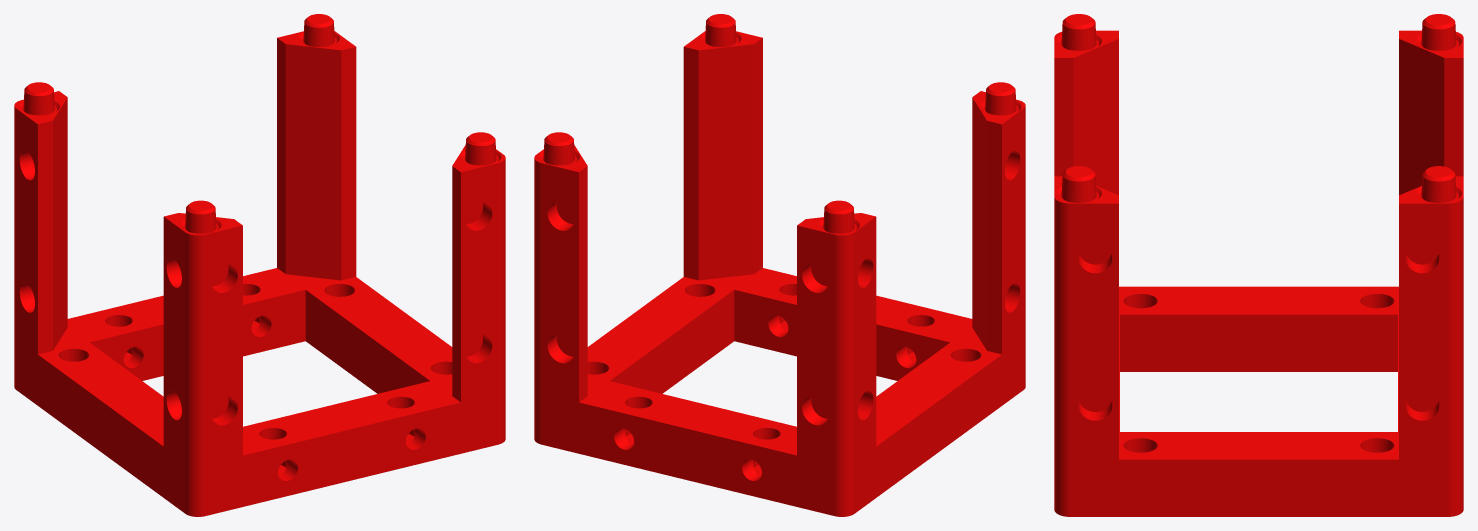
File: Cube 1x1 V5_Cube 1x1 Bottom V5.obj
3 renders of one model, left to right at view 1: azimuth 30°, elevation 25°; view 2: azimuth 150°, elevation 25°; view 3: azimuth 270°, elevation 25°, orthographic. The views are drawn at different scales.
Parts seen in each view (by area): view 1: Solid1:1; view 2: Solid1:1; view 3: Solid1:1.
Part boxes in pixels (left/top/right/bottom): Solid1:1: left=14, top=14, right=505, bottom=516; Solid1:1: left=534, top=14, right=1025, bottom=516; Solid1:1: left=1054, top=14, right=1463, bottom=516.
Size of the model in its own units: 49.8 by 44.97 by 49.8.
